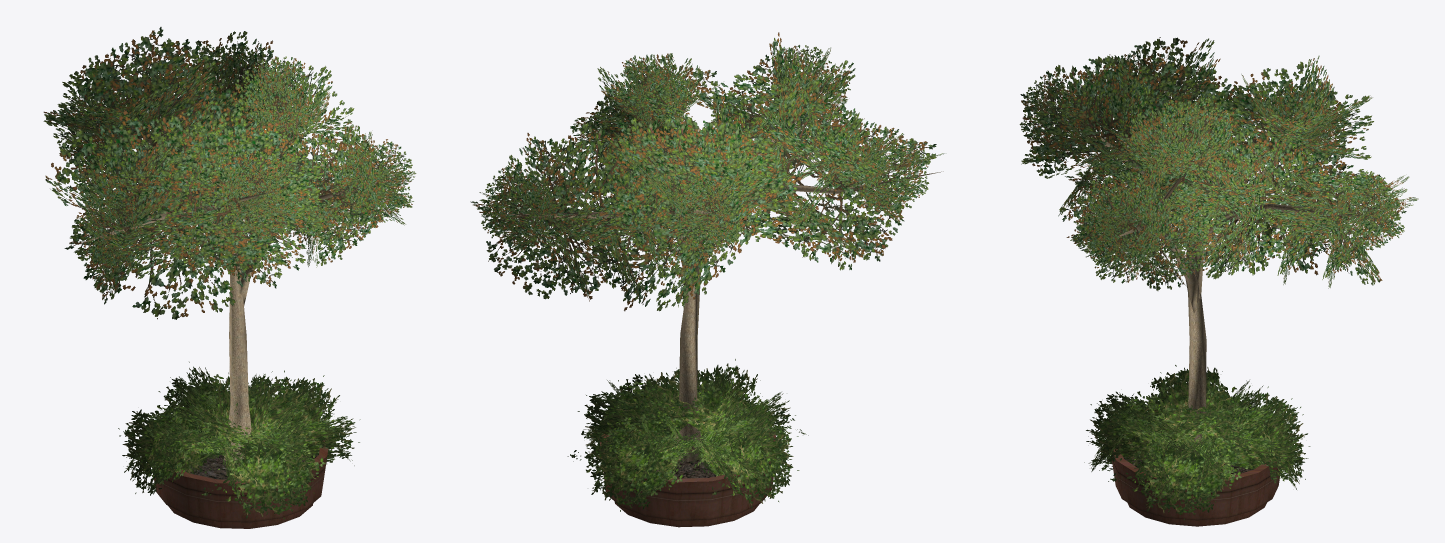
The model's file is mun_all_imprv_planter_s02_l0.fbx.
3 renders of one model, left to right at view 1: azimuth 30°, elevation 25°; view 2: azimuth 150°, elevation 25°; view 3: azimuth 270°, elevation 25°, orthographic. The views are drawn at different scales.
Parts seen in each view (by area): view 1: mesh_node; view 2: mesh_node; view 3: mesh_node.
Boxes of the visible parts, left/top/right/bottom form: mesh_node: left=43, top=27, right=416, bottom=528; mesh_node: left=470, top=32, right=944, bottom=527; mesh_node: left=1019, top=37, right=1418, bottom=526.
Size of the model in its own units: 7.48 by 8.62 by 8.07.
